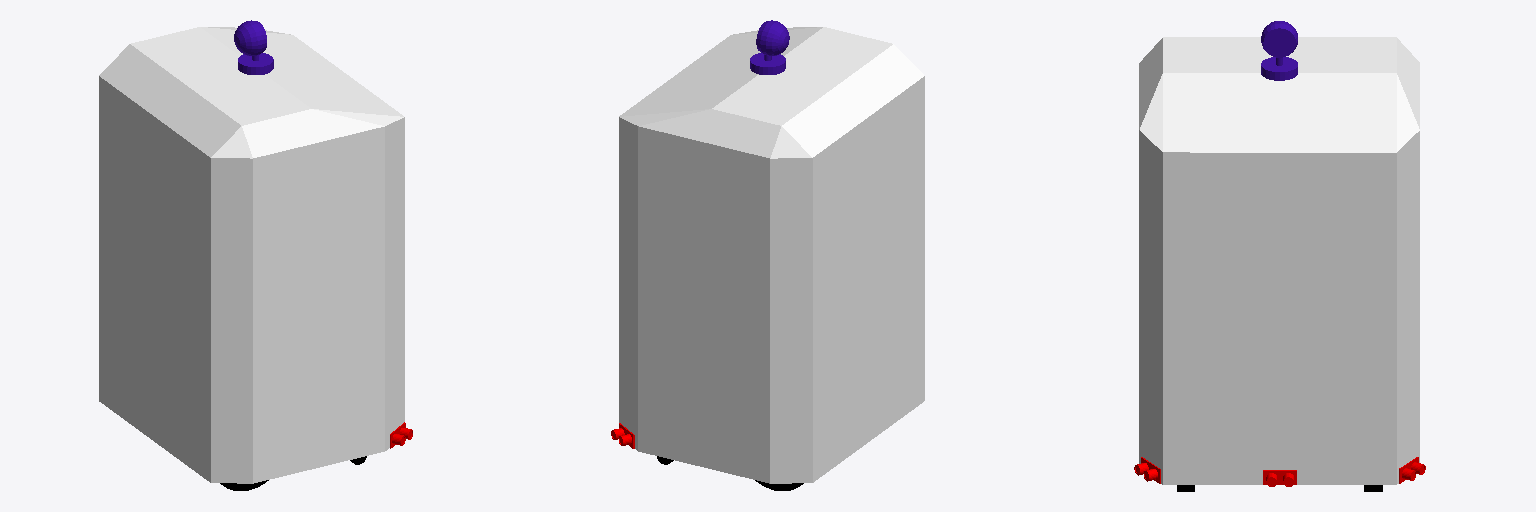
robot.urdf — yam:
<?xml version="1.0"?>
<robot name="yam">

  <material name="black">
    <color rgba="0 0 0 1"/>
  </material>
  <material name="white">
    <color rgba="1 1 1 1"/>
  </material>
  <material name="blue">
    <color rgba="0.3 0.1 0.7 1"/>
  </material>
  <material name="red">
    <color rgba="1 0 0 1"/>
  </material>

  <!-- Base -->

  <link name="base_link"></link>
  
  <link name="yam_body_link">
    <visual>
      <origin rpy="0 0 1.57" xyz="0.1524 -0.1905 0"/>
      <geometry>
        <mesh filename="package://yam_description/meshes/visual/yam_body.stl" scale="1.0 1.0 1.0"/>
      </geometry>
      <material name="white"/>
    </visual>
    <collision>
      <origin rpy="0 0 1.57" xyz="0.1524 -0.1905 0"/>
      <geometry>
        <mesh filename="package://yam_description/meshes/collision/yam_body.stl" scale="1.0 1.0 1.0"/>
      </geometry>
    </collision>
  </link>
  <joint name="body_fixed_joint" type="fixed">
    <parent link="base_link"/>
    <child link="yam_body_link"/>
    <origin rpy="0 0 0" xyz="0 0 0.0254"/>
  </joint>

  <!-- Drivetrain -->

  <link name="left_caster_wheel_link">
    <visual>
      <geometry>
        <cylinder length="0.0254" radius="0.0127"/>
      </geometry>
      <material name="black"/>
    </visual>
    <collision>
      <geometry>
        <cylinder length="0.0254" radius="0.0127"/>
      </geometry>
    </collision>
  </link>
  <joint name="left_caster_wheel_fixed_joint" type="fixed">
    <parent link="base_link"/>
    <child link="left_caster_wheel_link"/>
    <origin rpy="1.57 0 0" xyz="0.0889 0.127 0"/>
  </joint>

  <link name="right_caster_wheel_link">
    <visual>
      <geometry>
        <cylinder length="0.0254" radius="0.0127"/>
      </geometry>
      <material name="black"/>
    </visual>
    <collision>
      <geometry>
        <cylinder length="0.0254" radius="0.0127"/>
      </geometry>
    </collision>
  </link>
  <joint name="right_caster_wheel_fixed_joint" type="fixed">
    <parent link="base_link"/>
    <child link="right_caster_wheel_link"/>
    <origin rpy="-1.57 0 0" xyz="0.0889 -0.127 0"/>
  </joint>

  <link name="left_drive_wheel_link">
    <visual>
      <geometry>
        <cylinder length="0.01905" radius="0.0635"/>
      </geometry>
      <material name="black"/>
    </visual>
    <collision>
      <geometry>
        <cylinder length="0.01905" radius="0.0635"/>
      </geometry>
    </collision>
  </link>
  <joint name="left_drive_wheel_joint" type="continuous">
    <parent link="base_link"/>
    <child link="left_drive_wheel_link"/>
    <origin rpy="-1.57 0 0" xyz="-0.0889 0.127 0.0508"/>
    <axis xyz="0 0 1"/>
  </joint>

  <link name="right_drive_wheel_link">
    <visual>
      <geometry>
        <cylinder length="0.01905" radius="0.0635"/>
      </geometry>
      <material name="black"/>
    </visual>
    <collision>
      <geometry>
        <cylinder length="0.01905" radius="0.0635"/>
      </geometry>
    </collision>
  </link>
  <joint name="right_drive_wheel_joint" type="continuous">
    <parent link="base_link"/>
    <child link="right_drive_wheel_link"/>
    <origin rpy="1.57 0 0" xyz="-0.0889 -0.127 0.0508"/>
    <axis xyz="0 0 1"/>
  </joint>

  <!-- Sensors -->

  <link name="camera_base_link">
    <visual>
      <origin rpy="0 0 1.57" xyz="0 0 0"/>
      <geometry>
        <mesh filename="package://yam_description/meshes/visual/camera.stl" scale="1.0 1.0 1.0"/>
      </geometry>
      <material name="blue"/>
    </visual>
    <collision>
      <origin rpy="0 0 1.57" xyz="0 0 0.0381"/>
      <geometry>
        <cylinder length="0.0762" radius="0.0254"/>
      </geometry>
    </collision>
  </link>
  <joint name="camera_base_fixed_joint" type="fixed">
    <parent link="yam_body_link"/>
    <child link="camera_base_link"/>
    <origin  rpy="0 0 0" xyz="0 0 0.5461"/>
  </joint>
  
  <link name="camera_video_link"></link>
  <joint name="camera__video_fixed_joint" type="fixed">
    <parent link="camera_base_link"/>
    <child link="camera_video_link"/>
    <origin  rpy="0 0 0" xyz="0 0 0.0508"/>
  </joint>

  <link name="right_ultrasonic_link">
    <visual>
      <origin rpy="0 1.57 0" xyz="0 -0.0222 0.0125"/>
      <geometry>
        <mesh filename="package://yam_description/meshes/visual/ultrasonic.stl" scale="1.0 1.0 1.0"/>
      </geometry>
      <material name="red"/>
    </visual>
    <collision>
      <origin rpy="0 1.57 0" xyz="0 -0.0222 0.015"/>
      <geometry>
        <mesh filename="package://yam_description/meshes/collision/ultrasonic.stl" scale="1.0 1.0 1.0"/>
      </geometry>
    </collision>
  </link>
  <joint name="right_ultrasonic_fixed_joint" type="fixed">
    <parent link="yam_body_link"/>
    <child link="right_ultrasonic_link"/>
    <origin rpy="0 0 -1.0" xyz="0.13 -0.174 0.01"/>
  </joint>

  <link name="center_ultrasonic_link">
    <visual>
      <origin rpy="0 1.57 0" xyz="0 -0.0222 0.0125"/>
      <geometry>
        <mesh filename="package://yam_description/meshes/visual/ultrasonic.stl" scale="1.0 1.0 1.0"/>
      </geometry>
      <material name="red"/>
    </visual>
    <collision>
      <origin rpy="0 1.57 0" xyz="0 -0.0222 0.015"/>
      <geometry>
        <mesh filename="package://yam_description/meshes/collision/ultrasonic.stl" scale="1.0 1.0 1.0"/>
      </geometry>
    </collision>
  </link>
  <joint name="center_ultrasonic_fixed_joint" type="fixed">
    <parent link="yam_body_link"/>
    <child link="center_ultrasonic_link"/>
    <origin rpy="0 0 0" xyz="0.1524 0 0.01"/>
  </joint>

  <link name="left_ultrasonic_link">
    <visual>
      <origin rpy="0 1.57 0" xyz="0 -0.0222 0.0125"/>
      <geometry>
        <mesh filename="package://yam_description/meshes/visual/ultrasonic.stl" scale="1.0 1.0 1.0"/>
      </geometry>
      <material name="red"/>
    </visual>
    <collision>
      <origin rpy="0 1.57 0" xyz="0 -0.0222 0.015"/>
      <geometry>
        <mesh filename="package://yam_description/meshes/collision/ultrasonic.stl" scale="1.0 1.0 1.0"/>
      </geometry>
    </collision>
  </link>
  <joint name="left_ultrasonic_fixed_joint" type="fixed">
    <parent link="yam_body_link"/>
    <child link="left_ultrasonic_link"/>
    <origin rpy="0 0 1.0" xyz="0.13 0.174 0.01"/>
  </joint>

  <!-- TODO fix imu_link name and update orientation when installed -->
  <link name="imu_link">
	<visual>
      <origin rpy="0 0 0" xyz="0 0 0"/>
      <geometry>
        <box size="0.01 0.01 0.01" />
      </geometry>
      <material name="red"/>
    </visual>
  </link>
  <joint name="imu_fixed_joint" type="fixed">
	<parent link="yam_body_link"/>
    <child link="imu_link"/>
    <origin rpy="0 0 0" xyz="0 0 0.273"/>
  </joint>

</robot>

--- Render facts (derived) ---
Views: 3 orthographic renders of the robot side by side, from view 1: azimuth 30°, elevation 25°; view 2: azimuth 150°, elevation 25°; view 3: azimuth 270°, elevation 25°.
Robot: yam — 12 links, 11 joints (2 continuous, 9 fixed); root link base_link; default pose: all joints at 0.
Visible links, largest first — view 1: yam_body_link, camera_base_link; view 2: yam_body_link, camera_base_link; view 3: yam_body_link, camera_base_link, center_ultrasonic_link.
Boxes of the visible links, x1,y1,x2,y2 form: yam_body_link: (99,27,404,483); camera_base_link: (234,20,273,74); yam_body_link: (619,27,924,483); camera_base_link: (750,20,789,74); yam_body_link: (1139,37,1419,484); camera_base_link: (1261,21,1297,80); center_ultrasonic_link: (1263,470,1296,486).
Size in the robot's own frame: 0.3335 by 0.3955 by 0.657 metres.
Meshes: 3 distinct files referenced, 5 mesh visuals loaded (3 ASCII STL).